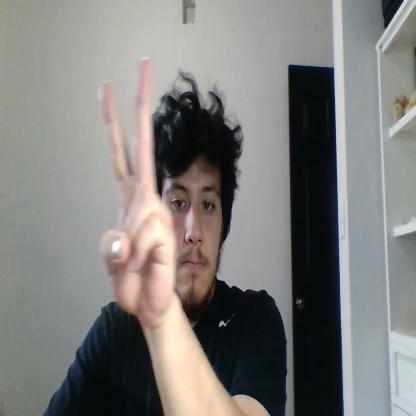V: (97, 56, 177, 319)
